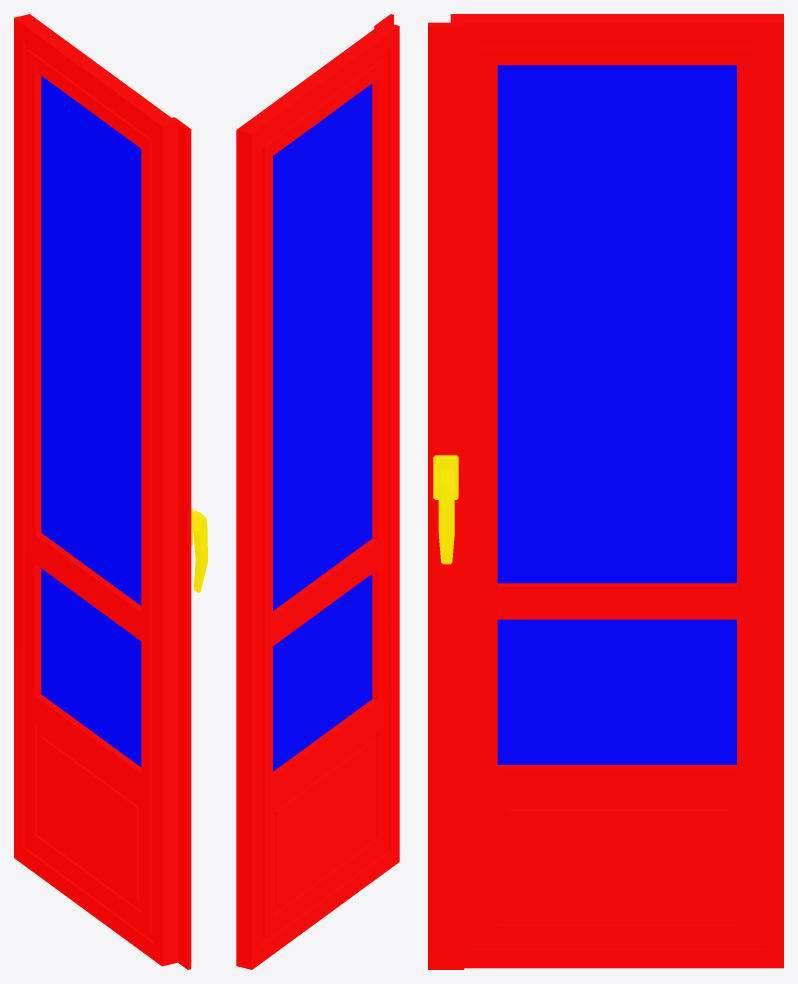
The model's file is Balkon_TuerRechts.fbx.
The picture shows the model from 3 angles, left to right: view 1: azimuth 30°, elevation 25°; view 2: azimuth 150°, elevation 25°; view 3: azimuth 270°, elevation 25°; orthographic projection. The views are drawn at different scales.
Visible parts, largest first — view 1: TürRechts; view 2: TürRechts; view 3: TürRechts.
Part boxes in pixels (box(x1,y1,x2,y2)): TürRechts: box(14, 14, 207, 969); TürRechts: box(236, 14, 399, 969); TürRechts: box(428, 14, 783, 969).
Bounding box in the file's own units: 10.42 × 202 × 68.98.
